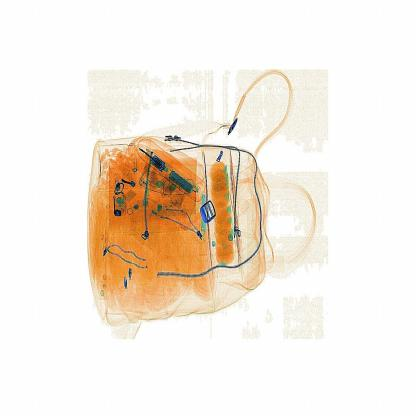pliers: (193, 183, 222, 264)
